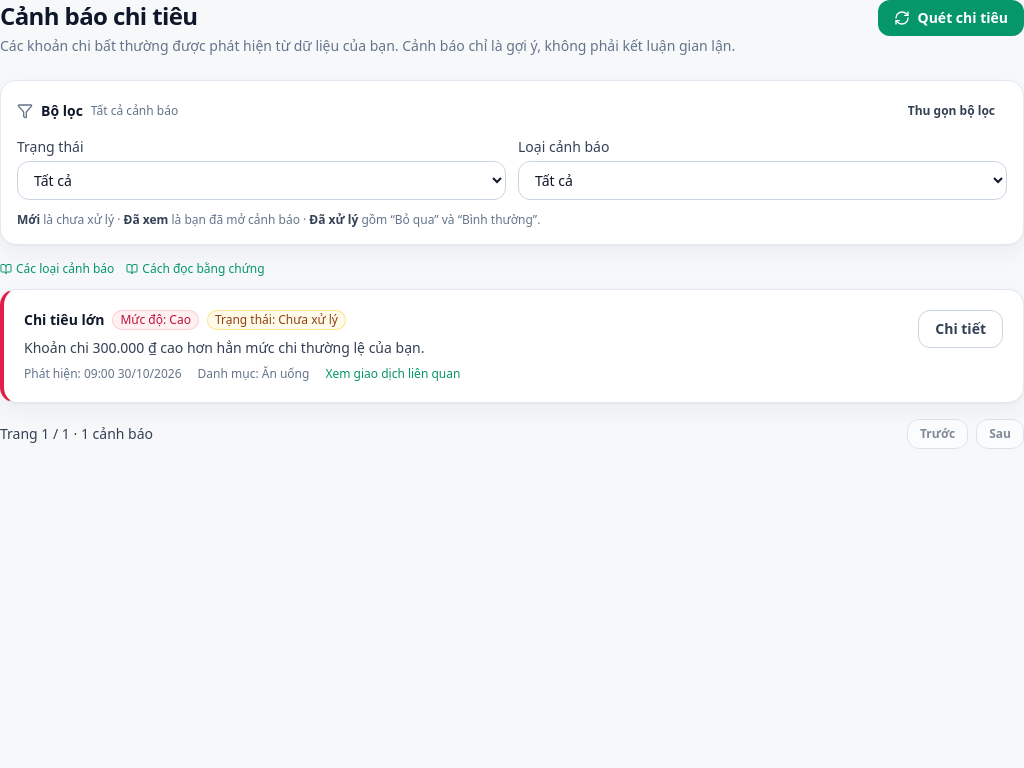
Test: AlertsPage — detail and status changes › uses facts.robustZ instead of the clamped score
Click the button with aria-label "Xem chi tiết".
click(961, 329)  # box [918,310,1003,348]
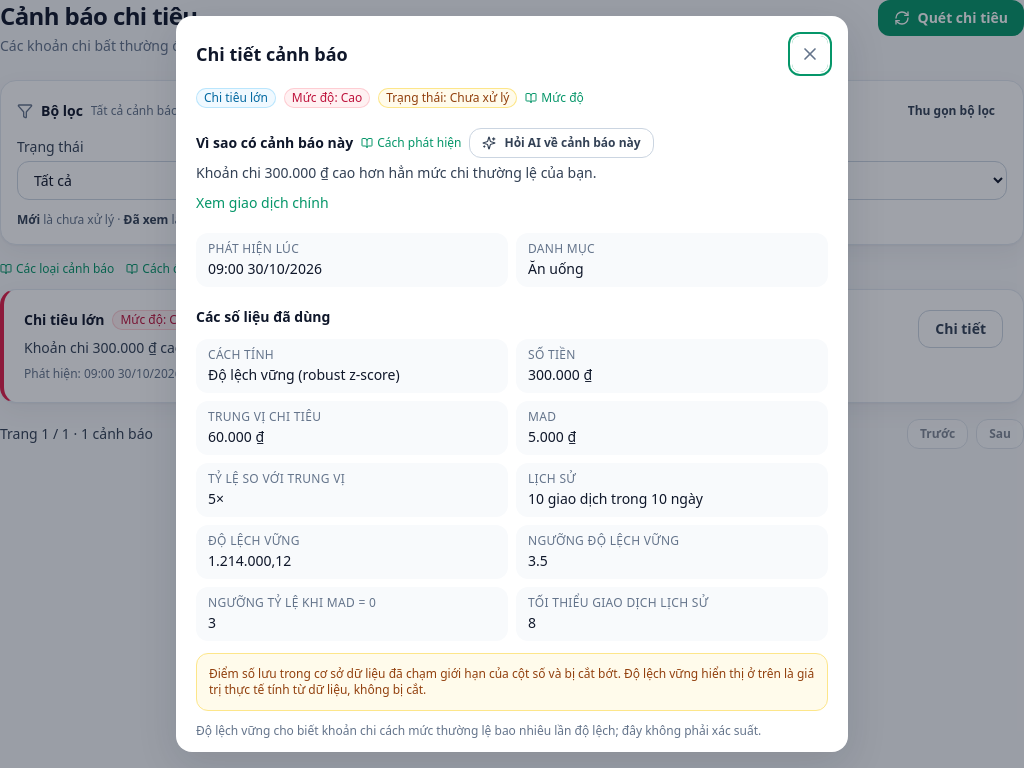
Now the text "1.214.000,12" is shown, box [208,551,291,570]
Now the text "Điểm số lưu trong cơ sở dữ liệu đã chạm giới hạn" is shown, box [209,665,814,698]
